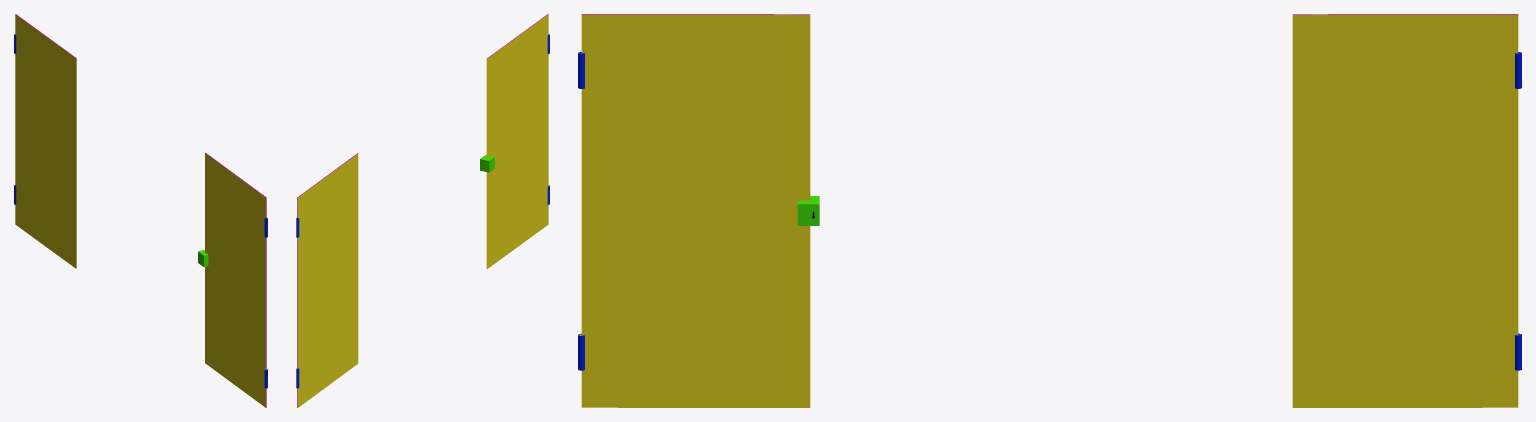
File: openGarageDoorNoTextMaterials.fbx
3 views of the same model, side by side, from view 1: azimuth 30°, elevation 25°; view 2: azimuth 150°, elevation 25°; view 3: azimuth 270°, elevation 25° (orthographic). The views are drawn at different scales.
Parts seen in each view (by area): view 1: Цилиндр.002, Цилиндр.001; view 2: Цилиндр.002, Цилиндр.001; view 3: Цилиндр.002, Цилиндр.001.
Boxes of the visible parts, x1,y1,x2,y2 form: Цилиндр.002: (198,152,267,407); Цилиндр.001: (14,14,76,268); Цилиндр.002: (480,14,549,268); Цилиндр.001: (296,153,358,407); Цилиндр.002: (578,14,819,407); Цилиндр.001: (1292,14,1521,407).
Bounding box in the file's own units: 9.12 × 200 × 435.
